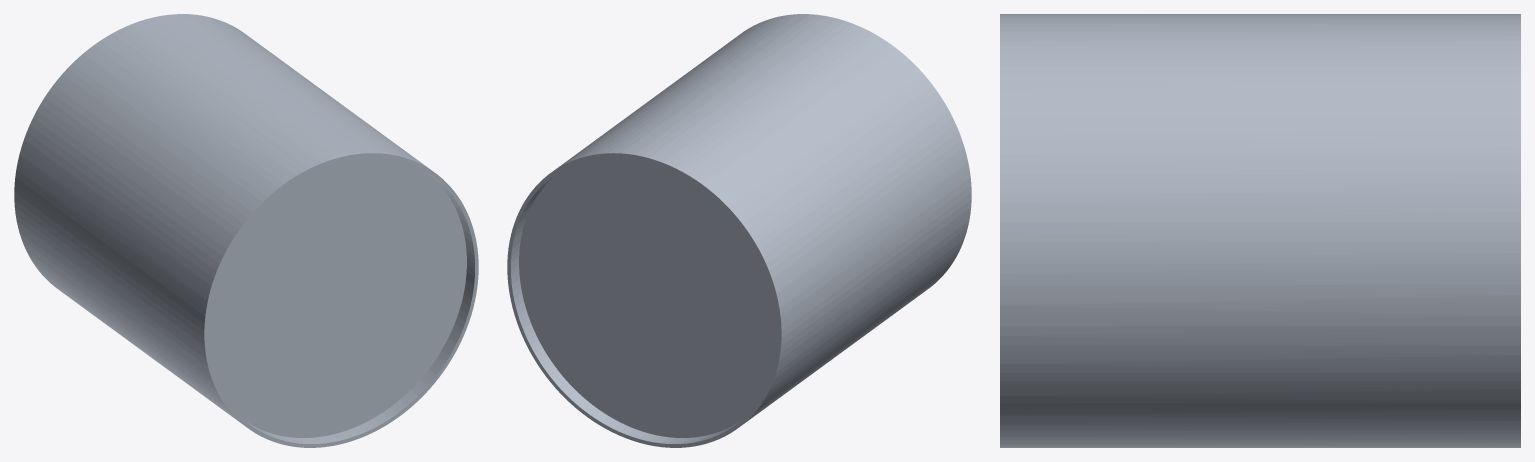
The model's file is representation.glb.
3 views of the same model, side by side, from view 1: azimuth 30°, elevation 25°; view 2: azimuth 150°, elevation 25°; view 3: azimuth 270°, elevation 25° (orthographic). The views are drawn at different scales.
Parts seen in each view (by area): view 1: representation saved shape; view 2: representation saved shape; view 3: representation saved shape.
Boxes of the visible parts, x1,y1,x2,y2 form: representation saved shape: (14,14,478,447); representation saved shape: (507,14,971,447); representation saved shape: (1000,14,1520,447).
Size of the model in its own units: 127 by 127 by 152.
